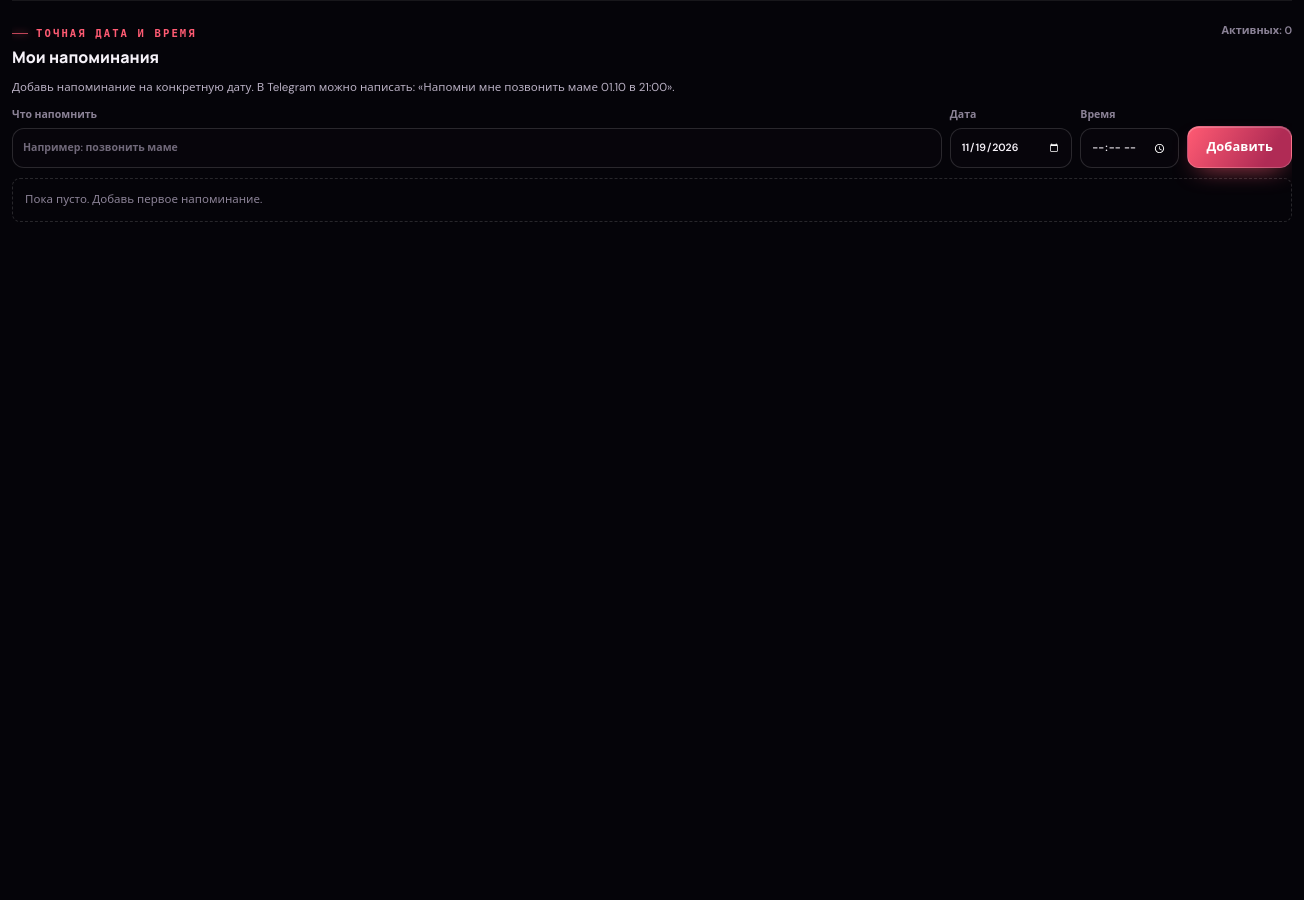
Test: RemindersPanel › загружает список и создаёт напоминание на выбранные дату и время
Expected: the text "Пока пусто. Добавь первое напоминание." is shown, [12,178,1292,222]
Type "позвонить маме" into the field labelled "Что напомнить" at (477, 148), box [12,128,942,168]
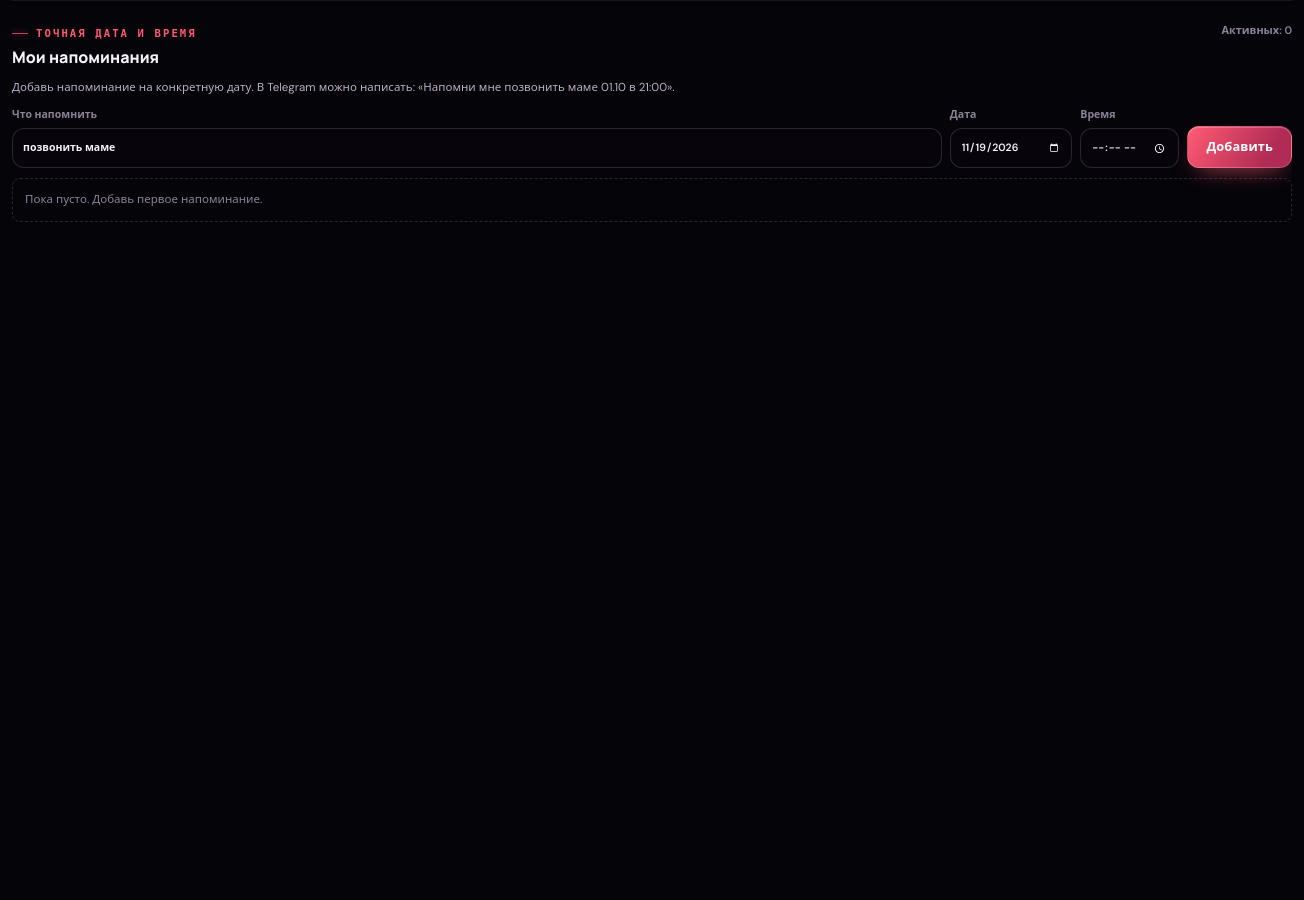
Type "2030-10-01" into the date field labelled "Дата" at (1011, 148), box [950,128,1072,168]
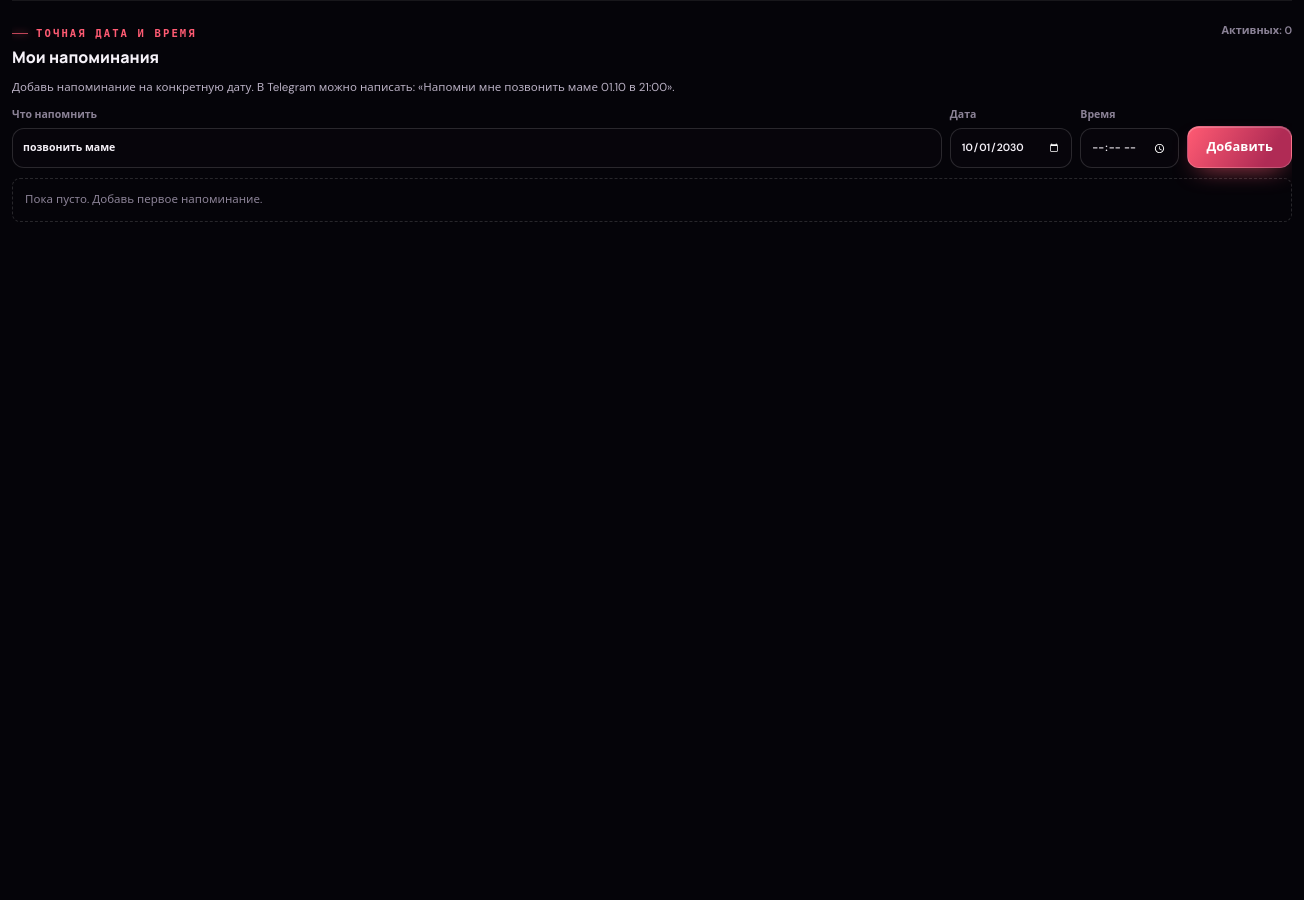
Type "21:00" into the time field labelled "Время" at (1130, 148), box [1080,128,1179,168]
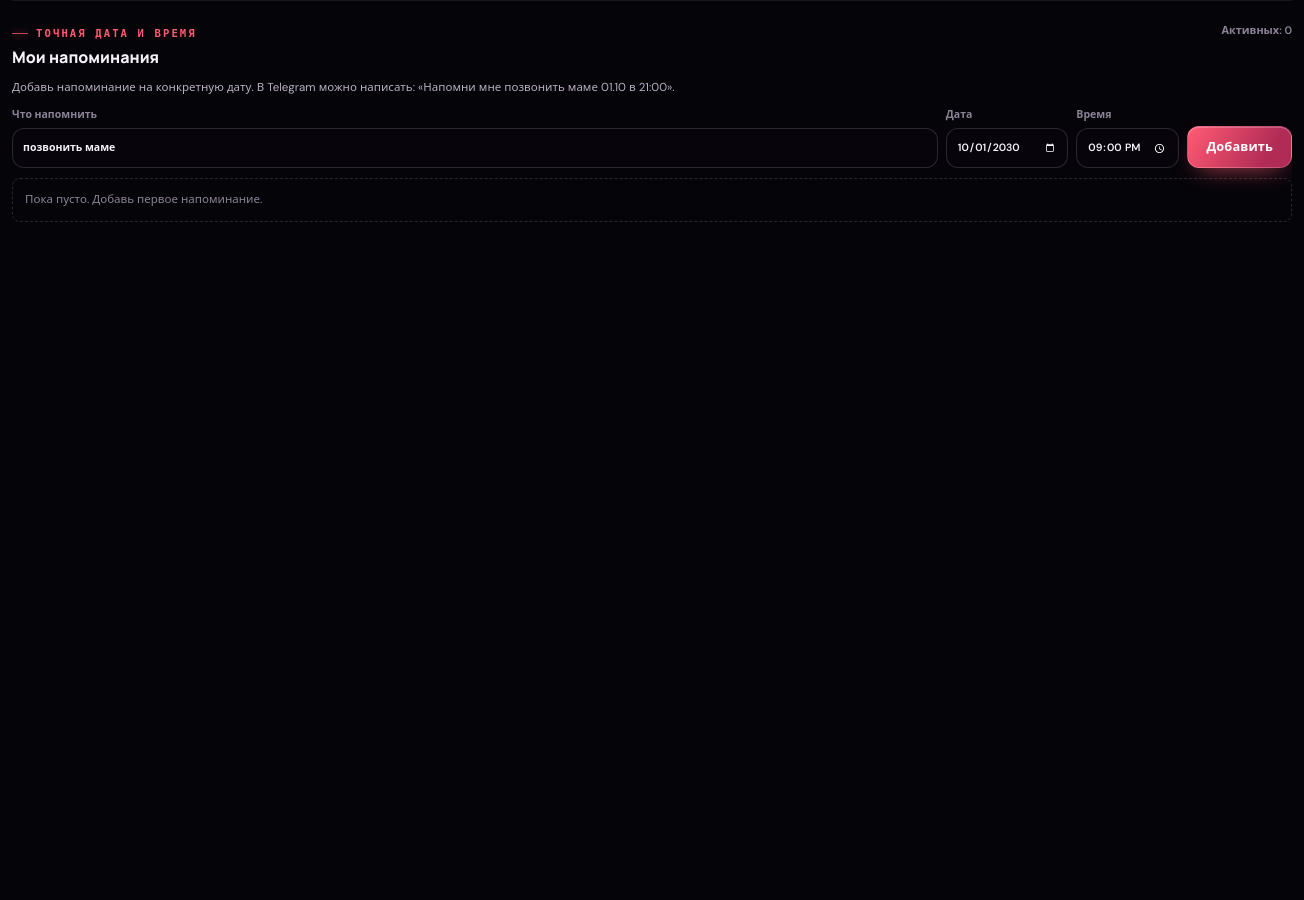
Click the button "Добавить" at (1240, 147), box [1187,126,1292,168]
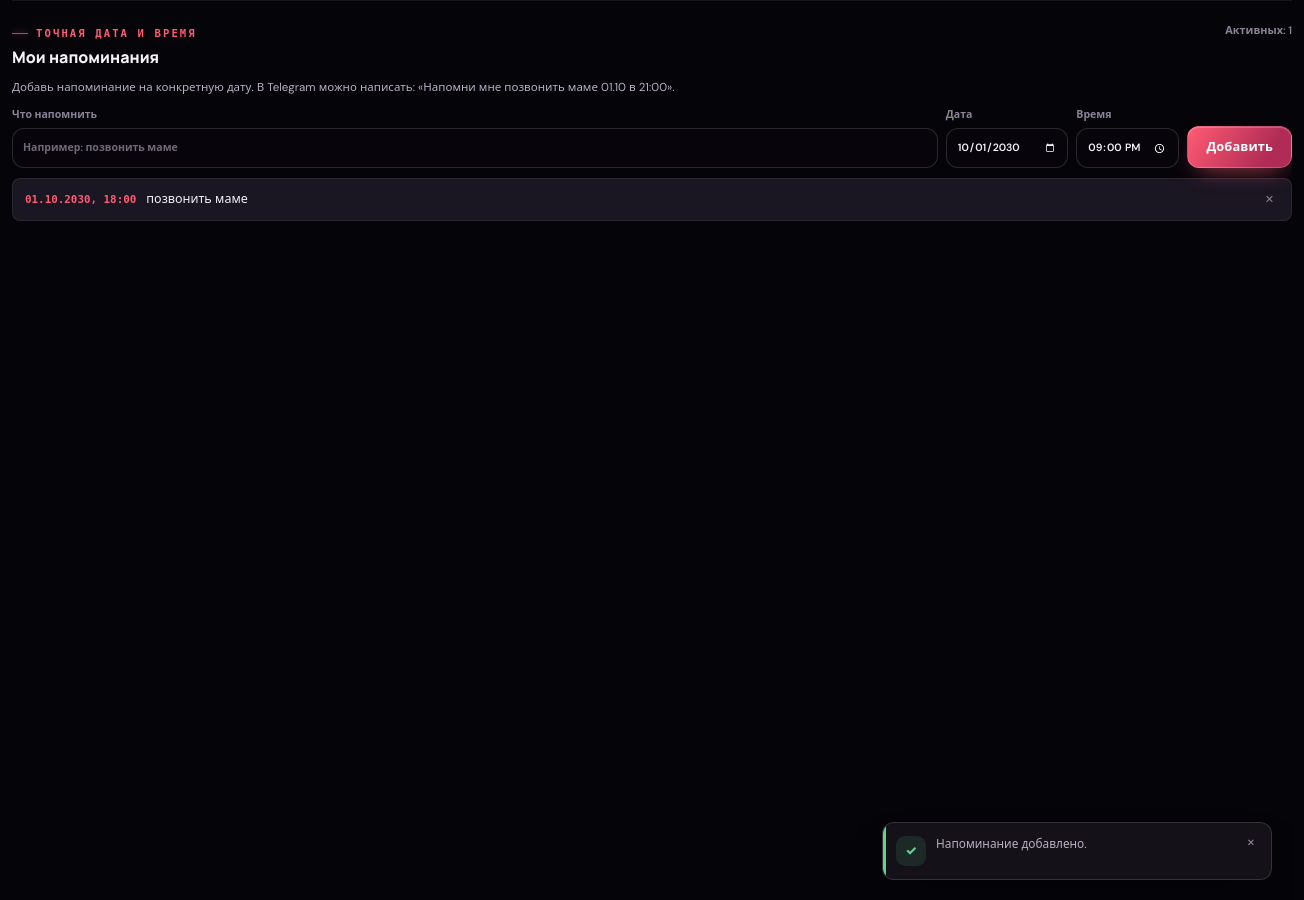
Expected: the text "позвонить маме" is shown, [146,190,248,209]
